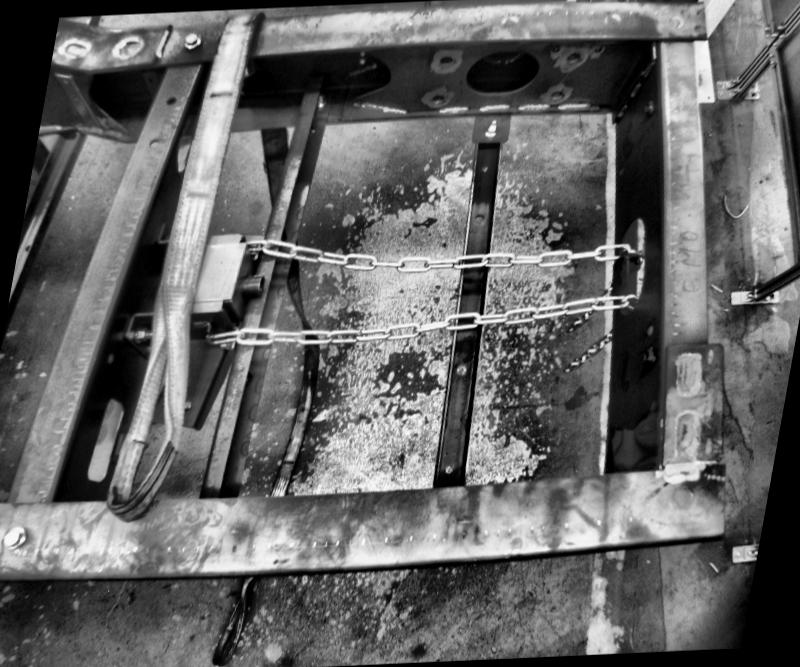bolt: (180, 33, 204, 55), (4, 527, 28, 549), (133, 329, 159, 346), (638, 346, 659, 366), (308, 93, 328, 109), (484, 120, 498, 140)
bracket: (606, 249, 632, 297)
hole: (459, 48, 545, 96), (90, 392, 123, 490), (434, 53, 456, 69), (430, 94, 447, 108), (564, 50, 580, 64), (454, 365, 468, 379), (548, 90, 564, 102), (146, 138, 160, 150), (442, 466, 456, 478), (472, 212, 485, 224), (642, 325, 655, 337), (105, 353, 116, 367), (166, 95, 176, 106), (480, 164, 489, 172)
